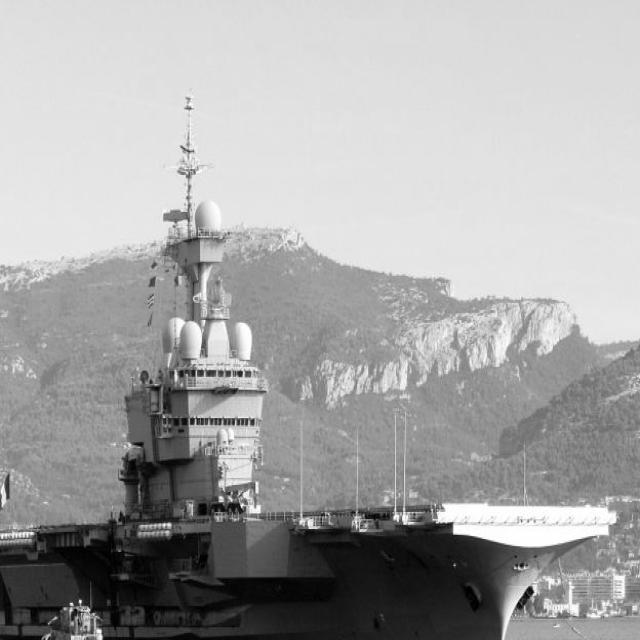Portanaves: (1, 78, 619, 640)
